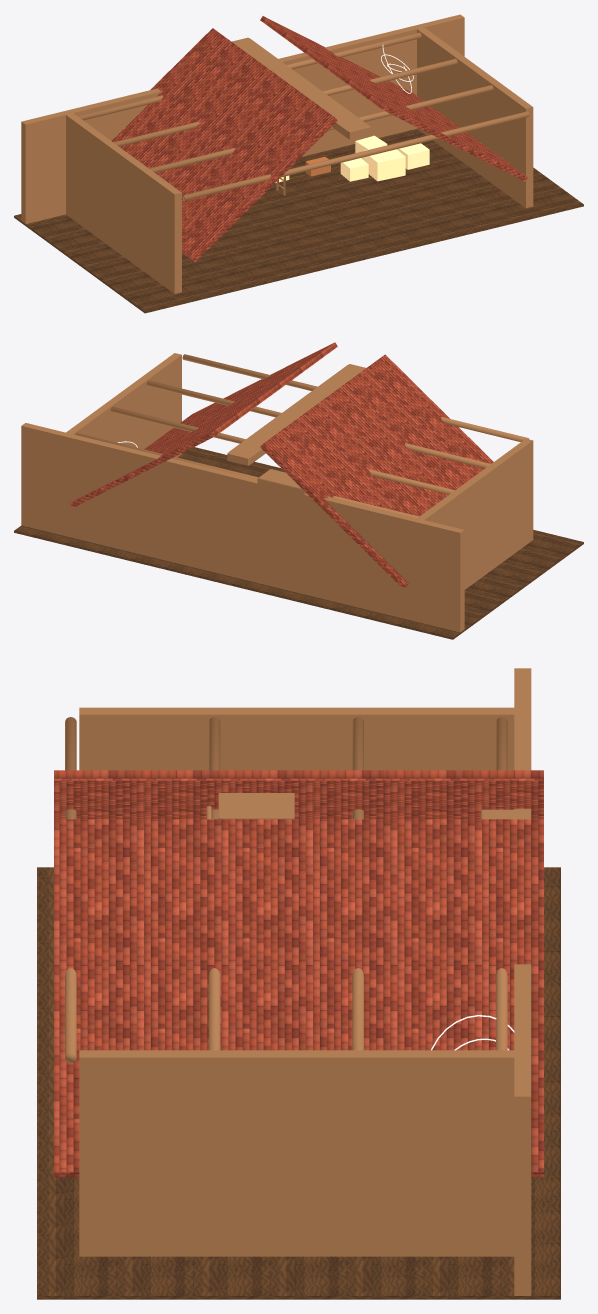
File: dachboden.glb
The picture shows the model from 3 angles, top to bottom: view 1: azimuth 30°, elevation 25°; view 2: azimuth 150°, elevation 25°; view 3: azimuth 270°, elevation 25°; orthographic projection. The views are drawn at different scales.
Parts seen in each view (by area): view 1: Boden.004, Dachflaeche-1.001, Ruckwand.001, WandLinks.001, WandRechts.001, Dachflaeche1.001, Dachfirst.001, Balken0.001, Balken1.001, Balken2.001, Balken3.001, Kiste0.002 (+2 smaller); view 2: Ruckwand.001, Dachflaeche-1.001, Boden.004, WandLinks.001, WandRechts.001, Dachflaeche1.001, Dachfirst.001, GaubeRahmen.003, Balken1.001, Balken0.001, Balken2.001, Balken3.001; view 3: Dachflaeche1.001, WandRechts.001, Boden.004, WandLinks.001, Dachflaeche-1.001, Ruckwand.001, Luke.001, Balken0.001, Balken1.001, Balken2.001, Balken3.001.
Part boxes in pixels (bbox=[...]): Boden.004: bbox=[14, 129, 583, 313]; Dachflaeche-1.001: bbox=[112, 28, 337, 262]; Ruckwand.001: bbox=[21, 14, 464, 223]; WandLinks.001: bbox=[65, 113, 181, 293]; WandRechts.001: bbox=[417, 27, 533, 208]; Dachflaeche1.001: bbox=[260, 16, 527, 181]; Dachfirst.001: bbox=[232, 37, 370, 139]; Balken0.001: bbox=[182, 111, 529, 200]; Balken1.001: bbox=[149, 85, 493, 172]; Balken2.001: bbox=[113, 58, 457, 146]; Balken3.001: bbox=[77, 32, 421, 120]; Kiste0.002: bbox=[363, 148, 405, 181]; Ruckwand.001: bbox=[21, 423, 464, 632]; Dachflaeche-1.001: bbox=[260, 354, 493, 588]; Boden.004: bbox=[14, 447, 583, 639]; WandLinks.001: bbox=[416, 438, 533, 589]; WandRechts.001: bbox=[65, 353, 181, 457]; Dachflaeche1.001: bbox=[70, 342, 337, 507]; Dachfirst.001: bbox=[227, 364, 365, 465]; GaubeRahmen.003: bbox=[257, 469, 306, 529]; Balken1.001: bbox=[146, 380, 490, 468]; Balken0.001: bbox=[182, 354, 528, 441]; Balken2.001: bbox=[110, 407, 454, 494]; Balken3.001: bbox=[75, 433, 418, 517]; Dachflaeche1.001: bbox=[54, 819, 543, 1177]; WandRechts.001: bbox=[79, 1050, 514, 1256]; Boden.004: bbox=[37, 867, 560, 1299]; WandLinks.001: bbox=[79, 707, 518, 770]; Dachflaeche-1.001: bbox=[54, 770, 543, 819]; Ruckwand.001: bbox=[514, 668, 531, 1295]; Luke.001: bbox=[218, 793, 294, 819]; Balken0.001: bbox=[65, 717, 76, 1063]; Balken1.001: bbox=[208, 717, 220, 1050]; Balken2.001: bbox=[352, 717, 363, 1050]; Balken3.001: bbox=[496, 717, 507, 1050].
Bounding box in the file's own units: 24 × 7.59 × 12.4.
Materials: 13 (2 with a texture image).
